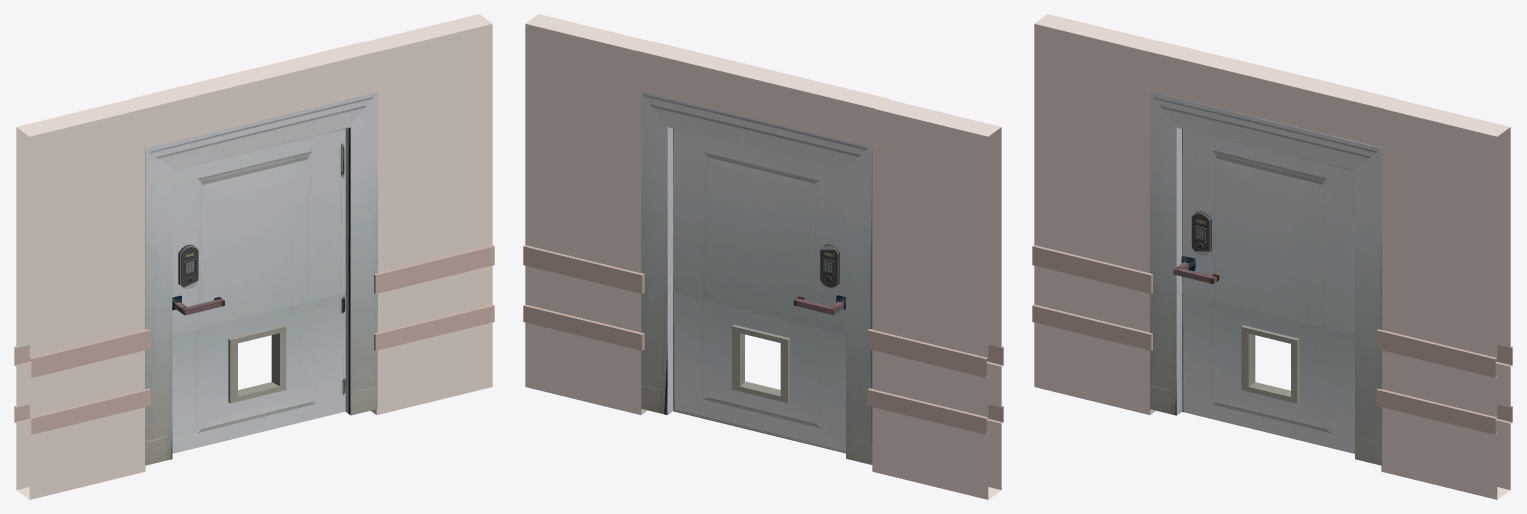
The model's file is Door_Dog.fbx.
The picture shows the model from 3 angles, left to right: view 1: azimuth 30°, elevation 25°; view 2: azimuth 150°, elevation 25°; view 3: azimuth 330°, elevation 25°; orthographic projection.
Visible parts, largest first — view 1: Door_Dog_Frame; view 2: Door_Dog_Frame; view 3: Door_Dog_Frame.
Part boxes in pixels (x1=…): Door_Dog_Frame: x1=14, y1=14, x2=494, y2=499; Door_Dog_Frame: x1=523, y1=14, x2=1003, y2=499; Door_Dog_Frame: x1=1032, y1=14, x2=1512, y2=499.
Size of the model in its own units: 400 by 300 by 42.9.
